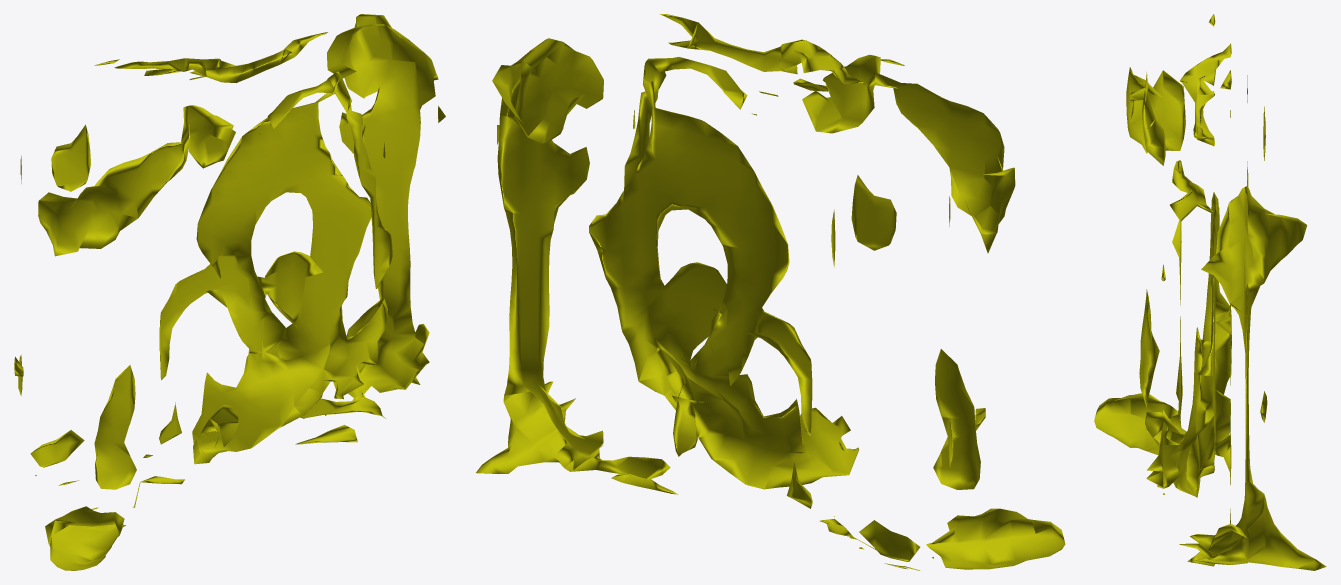
3 views of the same model, side by side, from view 1: azimuth 30°, elevation 25°; view 2: azimuth 150°, elevation 25°; view 3: azimuth 270°, elevation 25° (orthographic). The views are drawn at different scales.
Parts seen in each view (by area): view 1: world; view 2: world; view 3: world.
Boxes of the visible parts, x1=… form: world: x1=14, y1=14, x2=445, y2=570; world: x1=476, y1=14, x2=1065, y2=570; world: x1=1094, y1=14, x2=1326, y2=570.
Size of the model in its own units: 30.16 by 29.89 by 13.86.
